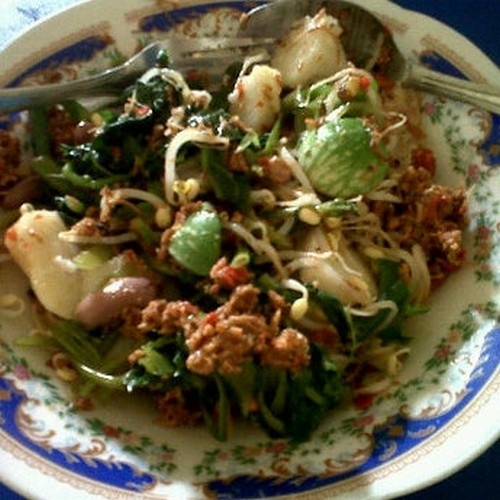serombotan: (37, 115, 427, 409)
